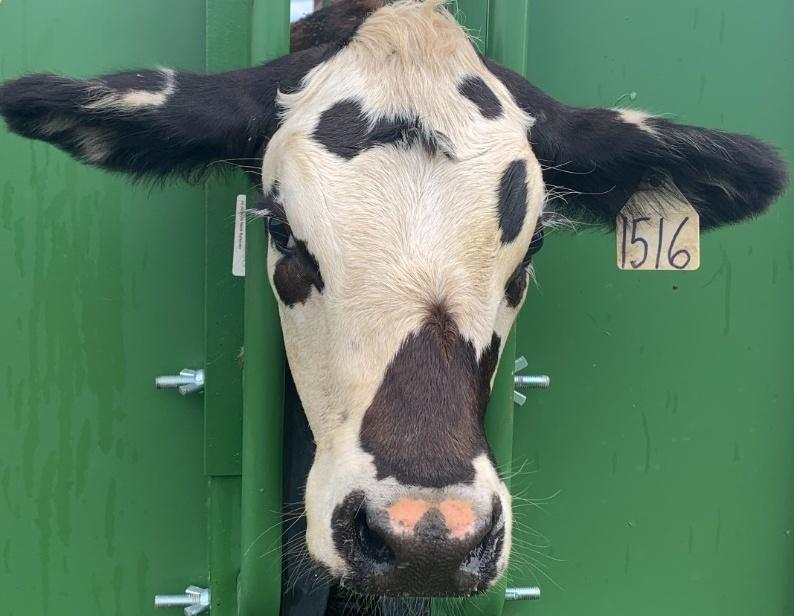muzzles: (295, 465, 529, 610)
